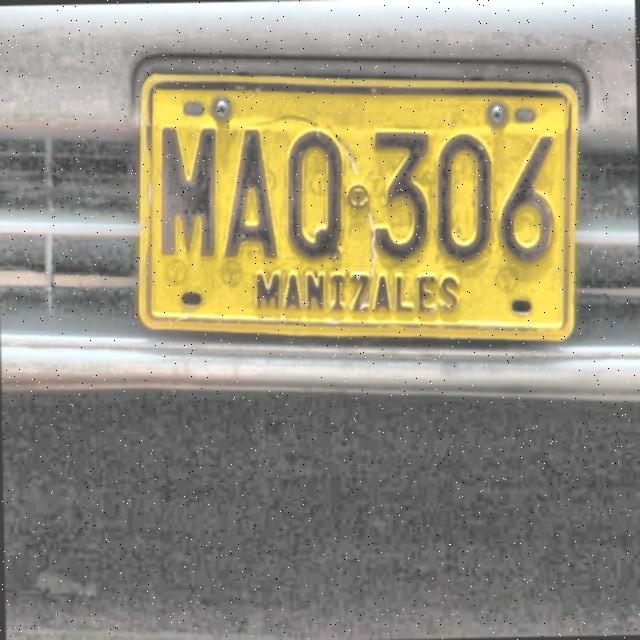0: (434, 128, 495, 263)
3: (369, 126, 432, 263)
6: (497, 132, 558, 266)
A: (222, 123, 285, 259)
M: (155, 122, 226, 262)
Q: (282, 120, 351, 263)
